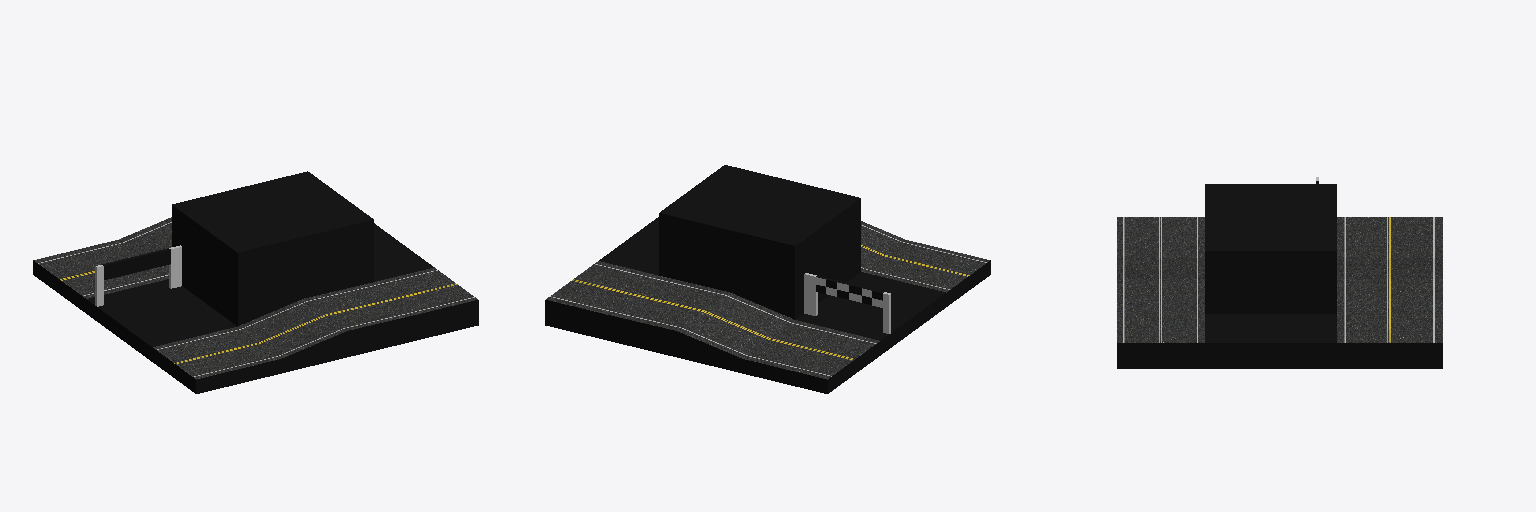
3 renders of one model, left to right at view 1: azimuth 30°, elevation 25°; view 2: azimuth 150°, elevation 25°; view 3: azimuth 270°, elevation 25°, orthographic.
Visible parts, largest first — view 1: Cube.000, Cube.002; view 2: Cube.000, Cube.002; view 3: Cube.000.
Part boxes in pixels (x1,y1,x2,y2): Cube.000: (33, 171, 478, 393); Cube.002: (95, 245, 181, 306); Cube.000: (545, 165, 990, 393); Cube.002: (804, 273, 890, 333); Cube.000: (1117, 184, 1442, 368).
Size of the model in its own units: 400 by 120 by 400.
6 materials, 1 textured.